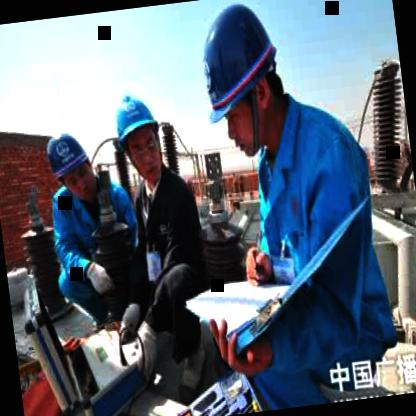helmet: (185, 0, 298, 163), (110, 87, 167, 188), (46, 126, 96, 202)
